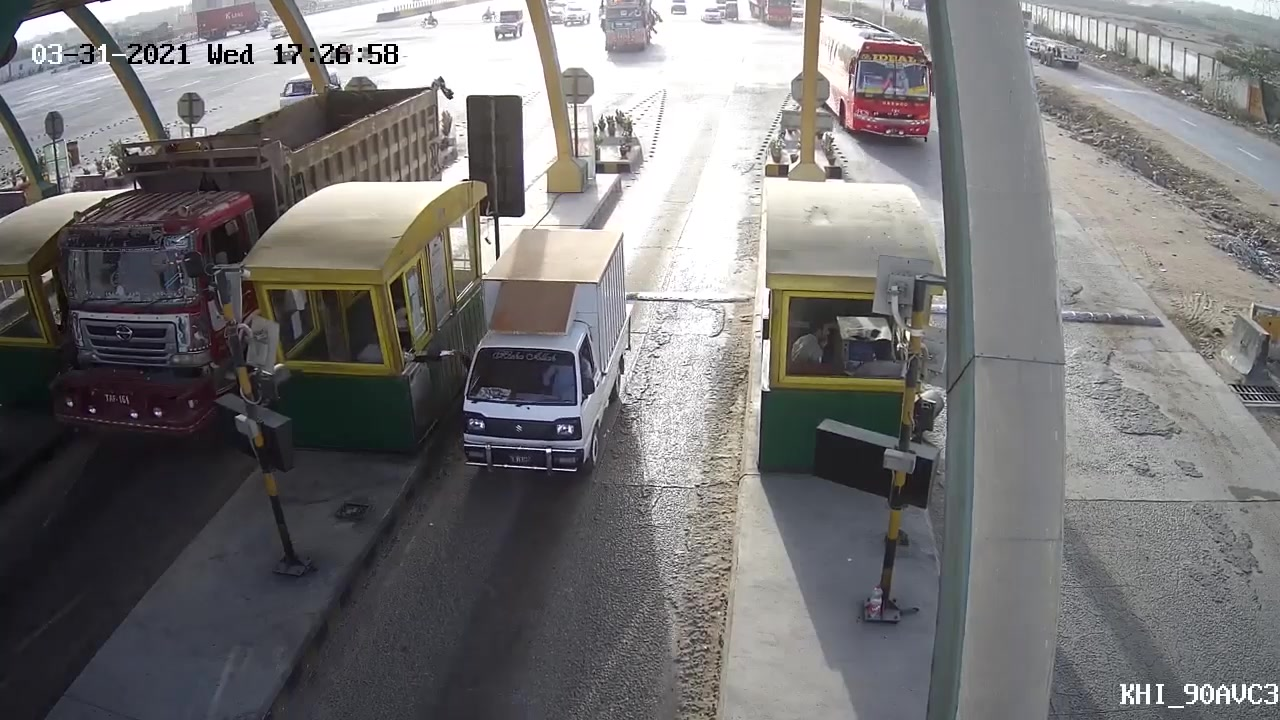F1: (451, 225, 633, 498)
